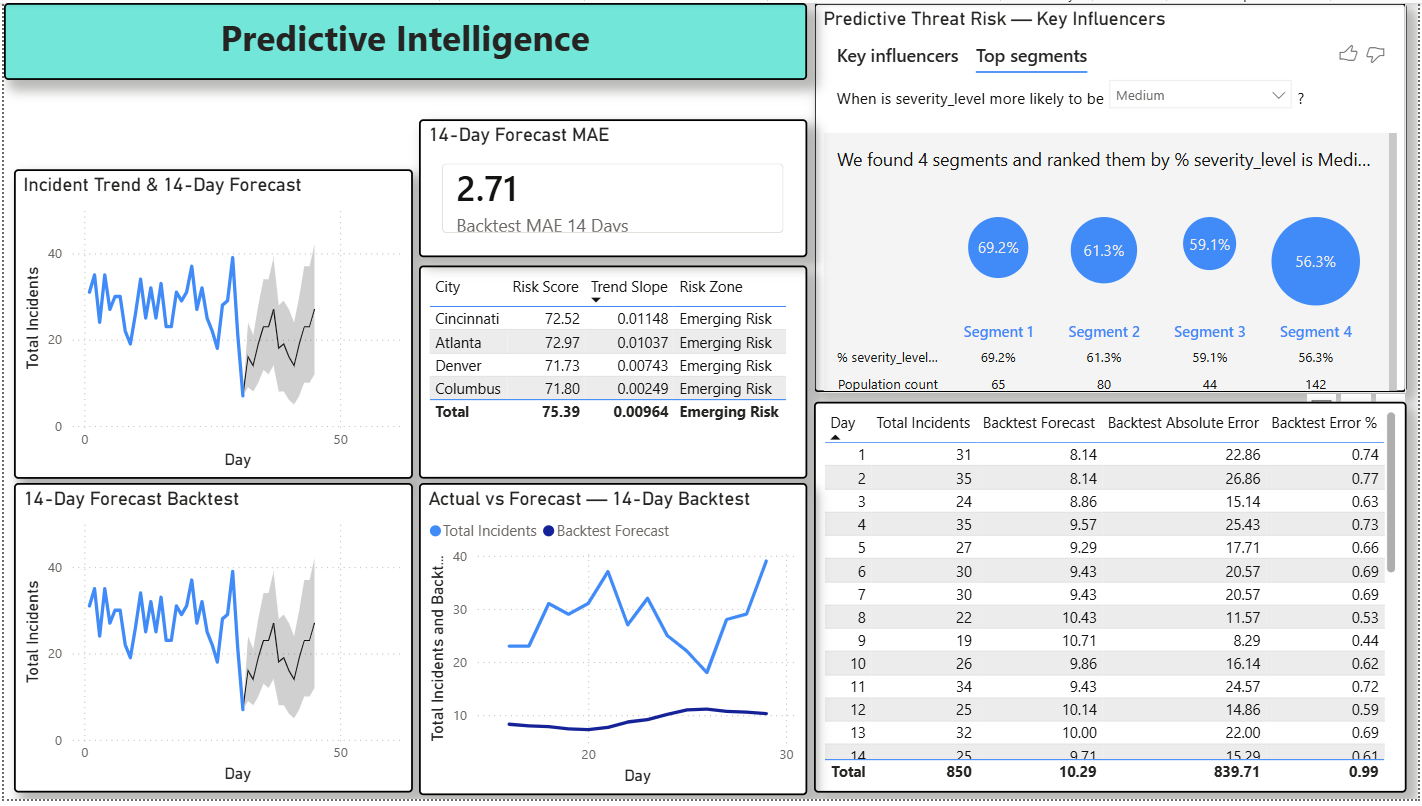

The dashboard page shown, as its layout file describes it:
{"tool":"powerbi","page":{"name":"Predictive Intelligence","canvas":[1280,720],"ordinal":7},"visuals":[{"type":"lineChart","title":"Incident Trend & 14-Day Forecast","fields":{"Y":["_Measures.Total Incidents"],"Category":["dim_date.date.Variation.Date Hierarchy.Day"]},"box":[9.3,150,360.5,280.2],"z":0},{"type":"keyDriversVisual","title":"Predictive Threat Risk — Key Influencers","fields":{"Target":["fact_incident.severity_level"],"ExplainBy":["dim_threat_type.threat_category","fact_incident.weather_condition","dim_asset.asset_criticality","fact_incident.Business Period","fact_incident.Hour"]},"box":[732.6,0,536,352.3],"z":1000},{"type":"tableEx","fields":{"Values":["dim_location.city","_Measures.Location Risk Score","_Measures.Incident Trend Slope","_Measures.Emerging Risk Zone"]},"box":[375.6,237.2,351.2,193],"z":2000},{"type":"actionButton","box":[0,0,100,40],"z":3000},{"type":"lineChart","title":"14-Day Forecast Backtest","fields":{"Y":["_Measures.Total Incidents"],"Category":["dim_date.date.Variation.Date Hierarchy.Day"]},"box":[9.3,433.7,360.5,280.2],"z":4000},{"type":"tableEx","fields":{"Values":["dim_date.date.Variation.Date Hierarchy.Day","_Measures.Total Incidents","_Measures.Backtest Forecast","_Measures.Backtest Absolute Error","_Measures.Backtest Error %"]},"box":[732.6,360.5,536,353.5],"z":5000},{"type":"cardVisual","title":"14-Day Forecast MAE","fields":{"Data":["_Measures.Backtest MAE 14 Days"]},"box":[375.6,104.7,351.2,124.4],"z":6000},{"type":"lineChart","title":"Actual vs Forecast — 14-Day Backtest","fields":{"Category":["dim_date.date.Variation.Date Hierarchy.Day"],"Y":["_Measures.Total Incidents","_Measures.Backtest Forecast"]},"box":[375.6,433.7,351.2,282.6],"z":7000},{"type":"textbox","box":[0,0,726.7,69.8],"z":8000}]}

Visuals, with their boxes in screenshot pixels (x1, y1, x2, y2), scaled from the page's 1280x720 canvas onto the 1422x806 screenshot:
"Incident Trend & 14-Day Forecast" lineChart: (10,168,411,482)
"Predictive Threat Risk — Key Influencers" keyDriversVisual: (814,0,1409,394)
tableEx - dim_location.city x _Measures.Location Risk Score: (417,266,807,482)
actionButton: (0,0,111,45)
"14-Day Forecast Backtest" lineChart: (10,486,411,799)
tableEx - dim_date.date.Variation.Date Hierarchy.Day x _Measures.Total Incidents: (814,404,1409,799)
"14-Day Forecast MAE" cardVisual: (417,117,807,256)
"Actual vs Forecast — 14-Day Backtest" lineChart: (417,486,807,802)
textbox: (0,0,807,78)
